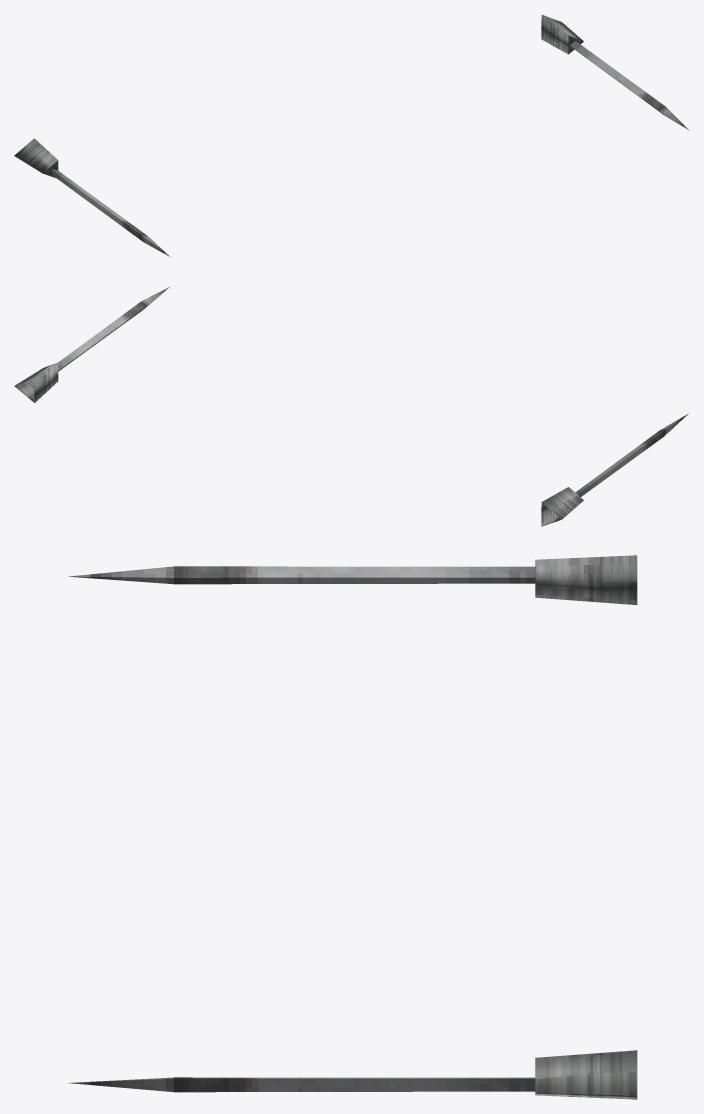
Rendered from black_sun_fighter_light_weapon_s05_l3.fbx.
3 views of the same model, one above another, from view 1: azimuth 30°, elevation 25°; view 2: azimuth 150°, elevation 25°; view 3: azimuth 270°, elevation 25° (orthographic). The views are drawn at different scales.
Visible parts, largest first — view 1: mesh_node; view 2: mesh_node; view 3: mesh_node.
Boxes of the visible parts, bbox=[...] form: mesh_node: bbox=[14, 14, 689, 256]; mesh_node: bbox=[14, 286, 688, 526]; mesh_node: bbox=[68, 555, 637, 1099].
Bounding box in the file's own units: 11.6 × 0.5021 × 5.23.
Materials: 1 (1 with a texture image).
